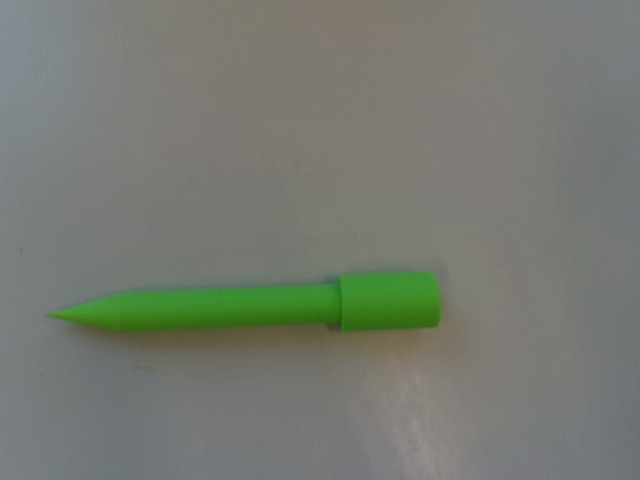Probe: (36, 258, 453, 342)
